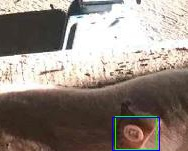text: (115, 116, 156, 149)
